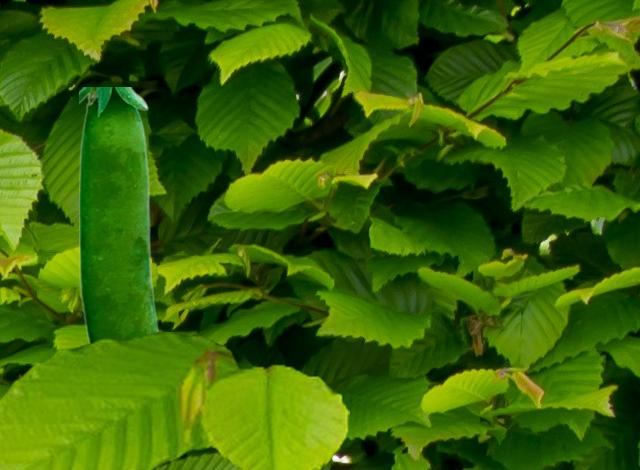pea: (79, 87, 160, 341)
